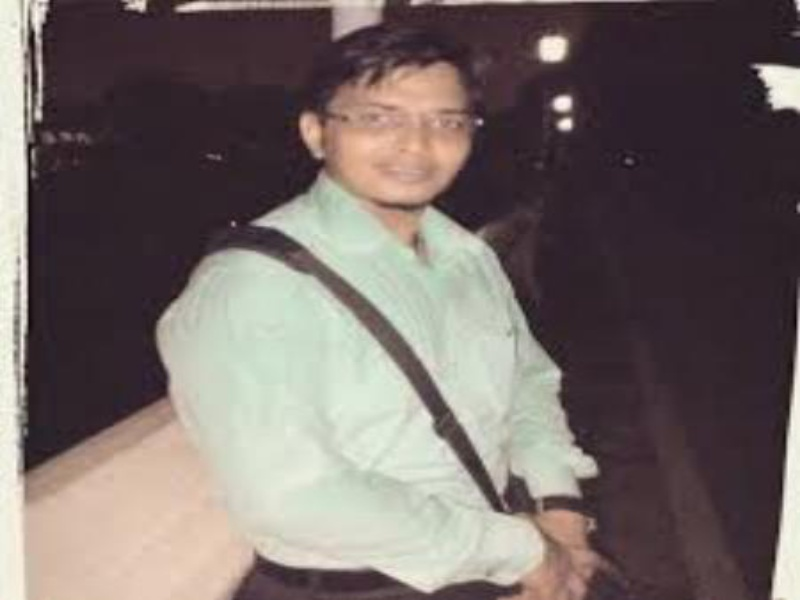TsisyArotava: (288, 16, 505, 226)
